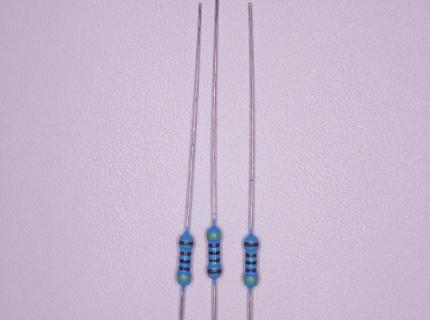Black band: (179, 259, 190, 264), (209, 250, 220, 255), (245, 260, 257, 264)
Brown band: (179, 241, 193, 246), (208, 258, 220, 263), (207, 269, 222, 273), (245, 253, 257, 258), (244, 243, 258, 247), (180, 251, 191, 256)
Violet band: (179, 266, 190, 272), (208, 242, 219, 248), (245, 268, 257, 272)
Yellow band: (207, 234, 222, 238), (177, 277, 191, 281), (244, 278, 258, 282)
